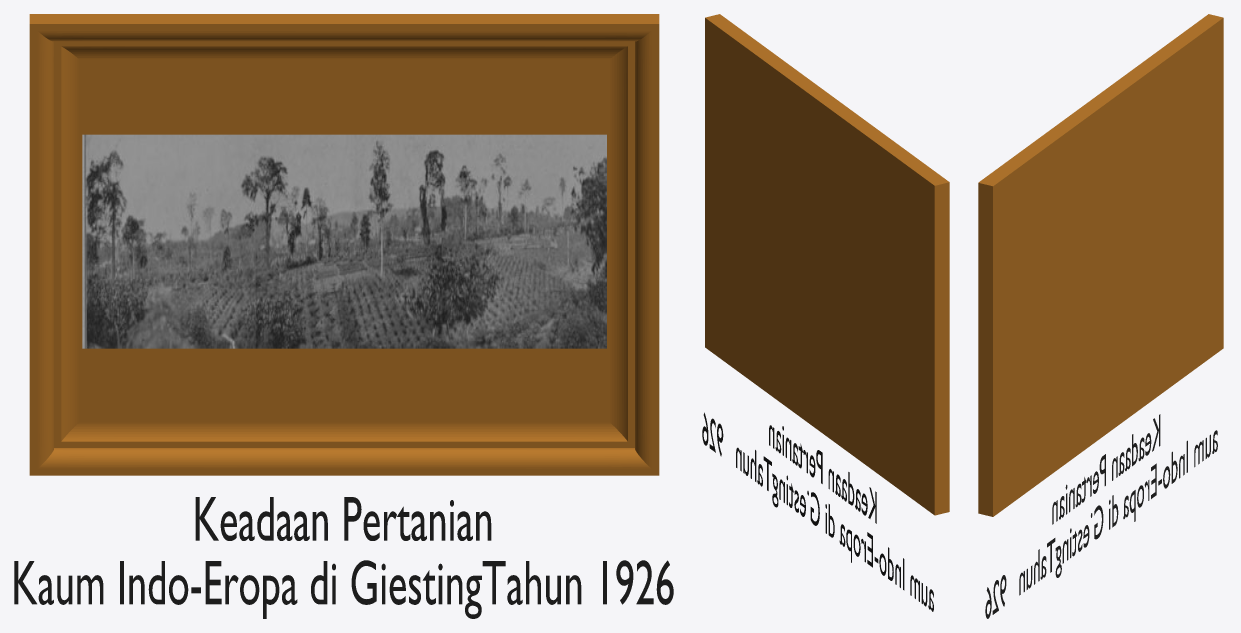
Rendered from pertanian.glb.
3 renders of one model, left to right at view 1: azimuth 30°, elevation 25°; view 2: azimuth 150°, elevation 25°; view 3: azimuth 270°, elevation 25°, orthographic. The views are drawn at different scales.
Parts seen in each view (by area): view 1: 6, 6t; view 2: 6, 6t; view 3: 6, 6t.
Boxes of the visible parts, x1,y1,x2,y2 form: 6: (29, 14, 659, 475); 6t: (14, 497, 673, 618); 6: (705, 14, 949, 515); 6t: (702, 412, 933, 611); 6: (978, 14, 1223, 516); 6t: (985, 414, 1217, 618).
Size of the model in its own units: 218 by 254 by 129.
4 materials, 1 textured.
